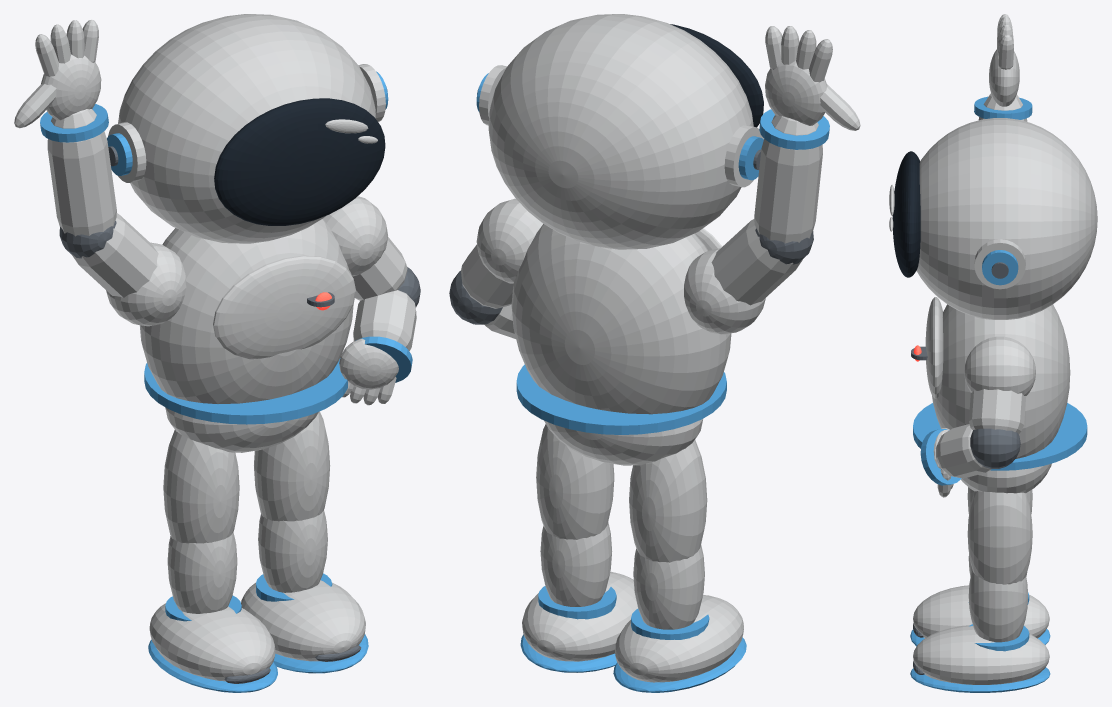
File: com-automation-robot.glb
3 views of the same model, side by side, from view 1: azimuth 30°, elevation 25°; view 2: azimuth 150°, elevation 25°; view 3: azimuth 270°, elevation 25° (orthographic). The views are drawn at different scales.
Visible parts, largest first — view 1: BodyPivot_WhiteShell, HeadPivot_WhiteShell, HeadPivot_VisorBlack, BodyPivot_BlueAccent, WaveShoulderPivot_WhiteShell, WaveElbowPivot_WhiteShell, WaveWristPivot_WhiteShell, BodyPivot_DarkJoint, WaveElbowPivot_BlueAccent, WaveElbowPivot_DarkJoint, HeadPivot_BlueAccent; view 2: BodyPivot_WhiteShell, HeadPivot_WhiteShell, BodyPivot_BlueAccent, WaveShoulderPivot_WhiteShell, WaveElbowPivot_WhiteShell, WaveWristPivot_WhiteShell, HeadPivot_VisorBlack, WaveElbowPivot_BlueAccent, BodyPivot_DarkJoint, WaveElbowPivot_DarkJoint, HeadPivot_BlueAccent; view 3: BodyPivot_WhiteShell, HeadPivot_WhiteShell, BodyPivot_BlueAccent, HeadPivot_VisorBlack, BodyPivot_DarkJoint, WaveWristPivot_WhiteShell, HeadPivot_BlueAccent, WaveElbowPivot_BlueAccent, WaveElbowPivot_WhiteShell.
Boxes of the visible parts, x1,y1,x2,y2 form: BodyPivot_WhiteShell: (139,196,416,681); HeadPivot_WhiteShell: (108,14,385,243); HeadPivot_VisorBlack: (214,98,385,225); BodyPivot_BlueAccent: (144,336,412,692); WaveShoulderPivot_WhiteShell: (71,213,186,326); WaveElbowPivot_WhiteShell: (47,109,116,236); WaveWristPivot_WhiteShell: (14,20,101,128); BodyPivot_DarkJoint: (224,267,420,683); WaveElbowPivot_BlueAccent: (40,104,108,142); WaveElbowPivot_DarkJoint: (59,221,116,258); HeadPivot_BlueAccent: (107,71,388,175); BodyPivot_WhiteShell: (461,198,743,682); HeadPivot_WhiteShell: (479,14,763,249); BodyPivot_BlueAccent: (516,364,746,692); WaveShoulderPivot_WhiteShell: (684,219,802,334); WaveElbowPivot_WhiteShell: (754,115,822,243); WaveWristPivot_WhiteShell: (765,26,860,130); HeadPivot_VisorBlack: (670,24,763,127); WaveElbowPivot_BlueAccent: (759,109,829,149); BodyPivot_DarkJoint: (449,270,502,324); WaveElbowPivot_DarkJoint: (755,228,813,264); HeadPivot_BlueAccent: (476,73,763,180); BodyPivot_WhiteShell: (913,297,1070,684); HeadPivot_WhiteShell: (889,118,1097,319); BodyPivot_BlueAccent: (910,403,1087,692); HeadPivot_VisorBlack: (892,151,920,277); BodyPivot_DarkJoint: (911,346,1020,674); WaveWristPivot_WhiteShell: (989,14,1019,106); HeadPivot_BlueAccent: (982,250,1018,285); WaveElbowPivot_BlueAccent: (974,96,1032,119); WaveElbowPivot_WhiteShell: (978,93,1027,121).
Size of the model in its own units: 1.15 by 1.84 by 0.609.
